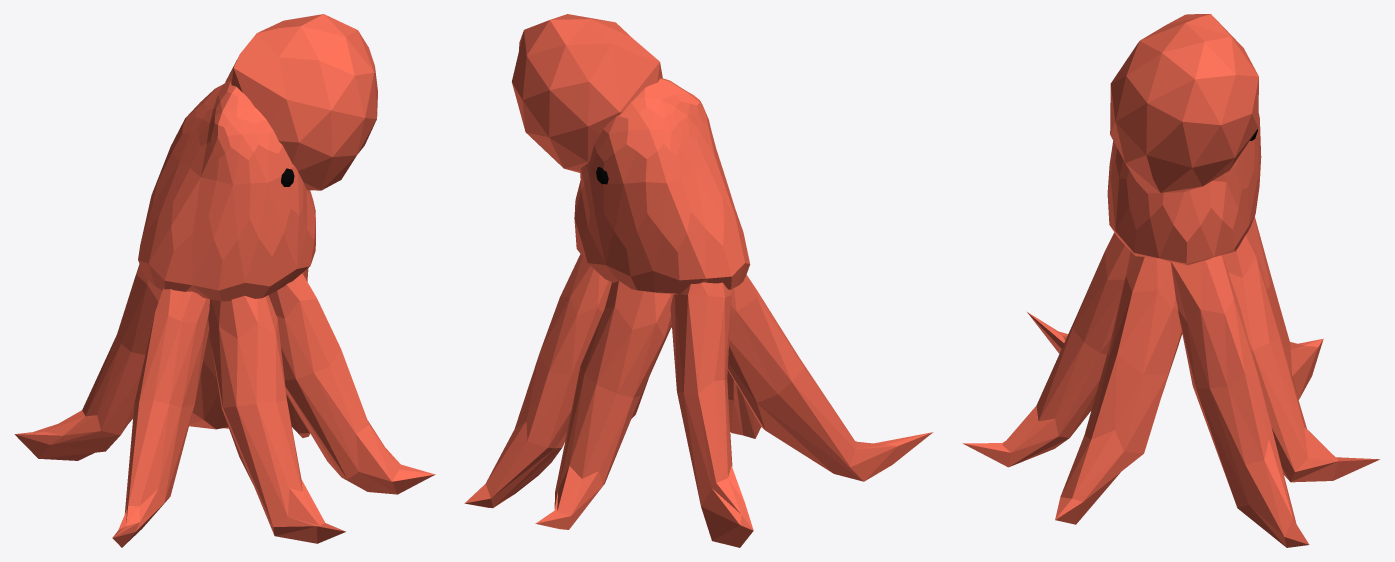
File: ostorus.glb
The picture shows the model from 3 angles, left to right: view 1: azimuth 30°, elevation 25°; view 2: azimuth 150°, elevation 25°; view 3: azimuth 270°, elevation 25°; orthographic projection. The views are drawn at different scales.
Parts seen in each view (by area): view 1: Icosphere.001, Icosphere, Icosphere.002, Icosphere.005, Icosphere.004, Icosphere.006, Icosphere.007; view 2: Icosphere.001, Icosphere, Icosphere.007, Icosphere.004, Icosphere.006, Icosphere.008, Icosphere.002; view 3: Icosphere, Icosphere.008, Icosphere.005, Icosphere.001, Icosphere.002, Icosphere.007, Icosphere.006.
Part boxes in pixels (x1,y1,x2,y2): Icosphere.001: (138, 80, 315, 301); Icosphere: (225, 14, 377, 190); Icosphere.002: (208, 295, 345, 543); Icosphere.005: (268, 273, 435, 494); Icosphere.004: (112, 288, 209, 547); Icosphere.006: (14, 264, 162, 460); Icosphere.007: (189, 329, 228, 429); Icosphere.001: (574, 78, 750, 294); Icosphere: (512, 14, 662, 172); Icosphere.007: (535, 281, 673, 529); Icosphere.004: (727, 275, 933, 481); Icosphere.006: (670, 282, 753, 547); Icosphere.008: (464, 254, 611, 508); Icosphere.002: (671, 326, 760, 438); Icosphere: (1110, 14, 1258, 193); Icosphere.008: (1170, 255, 1309, 547); Icosphere.005: (1055, 251, 1182, 524); Icosphere.001: (1107, 113, 1261, 265); Icosphere.002: (962, 232, 1130, 467); Icosphere.007: (1222, 233, 1379, 482); Icosphere.006: (1247, 217, 1323, 399).
Size of the model in its own units: 5.46 by 7.1 by 5.43.
